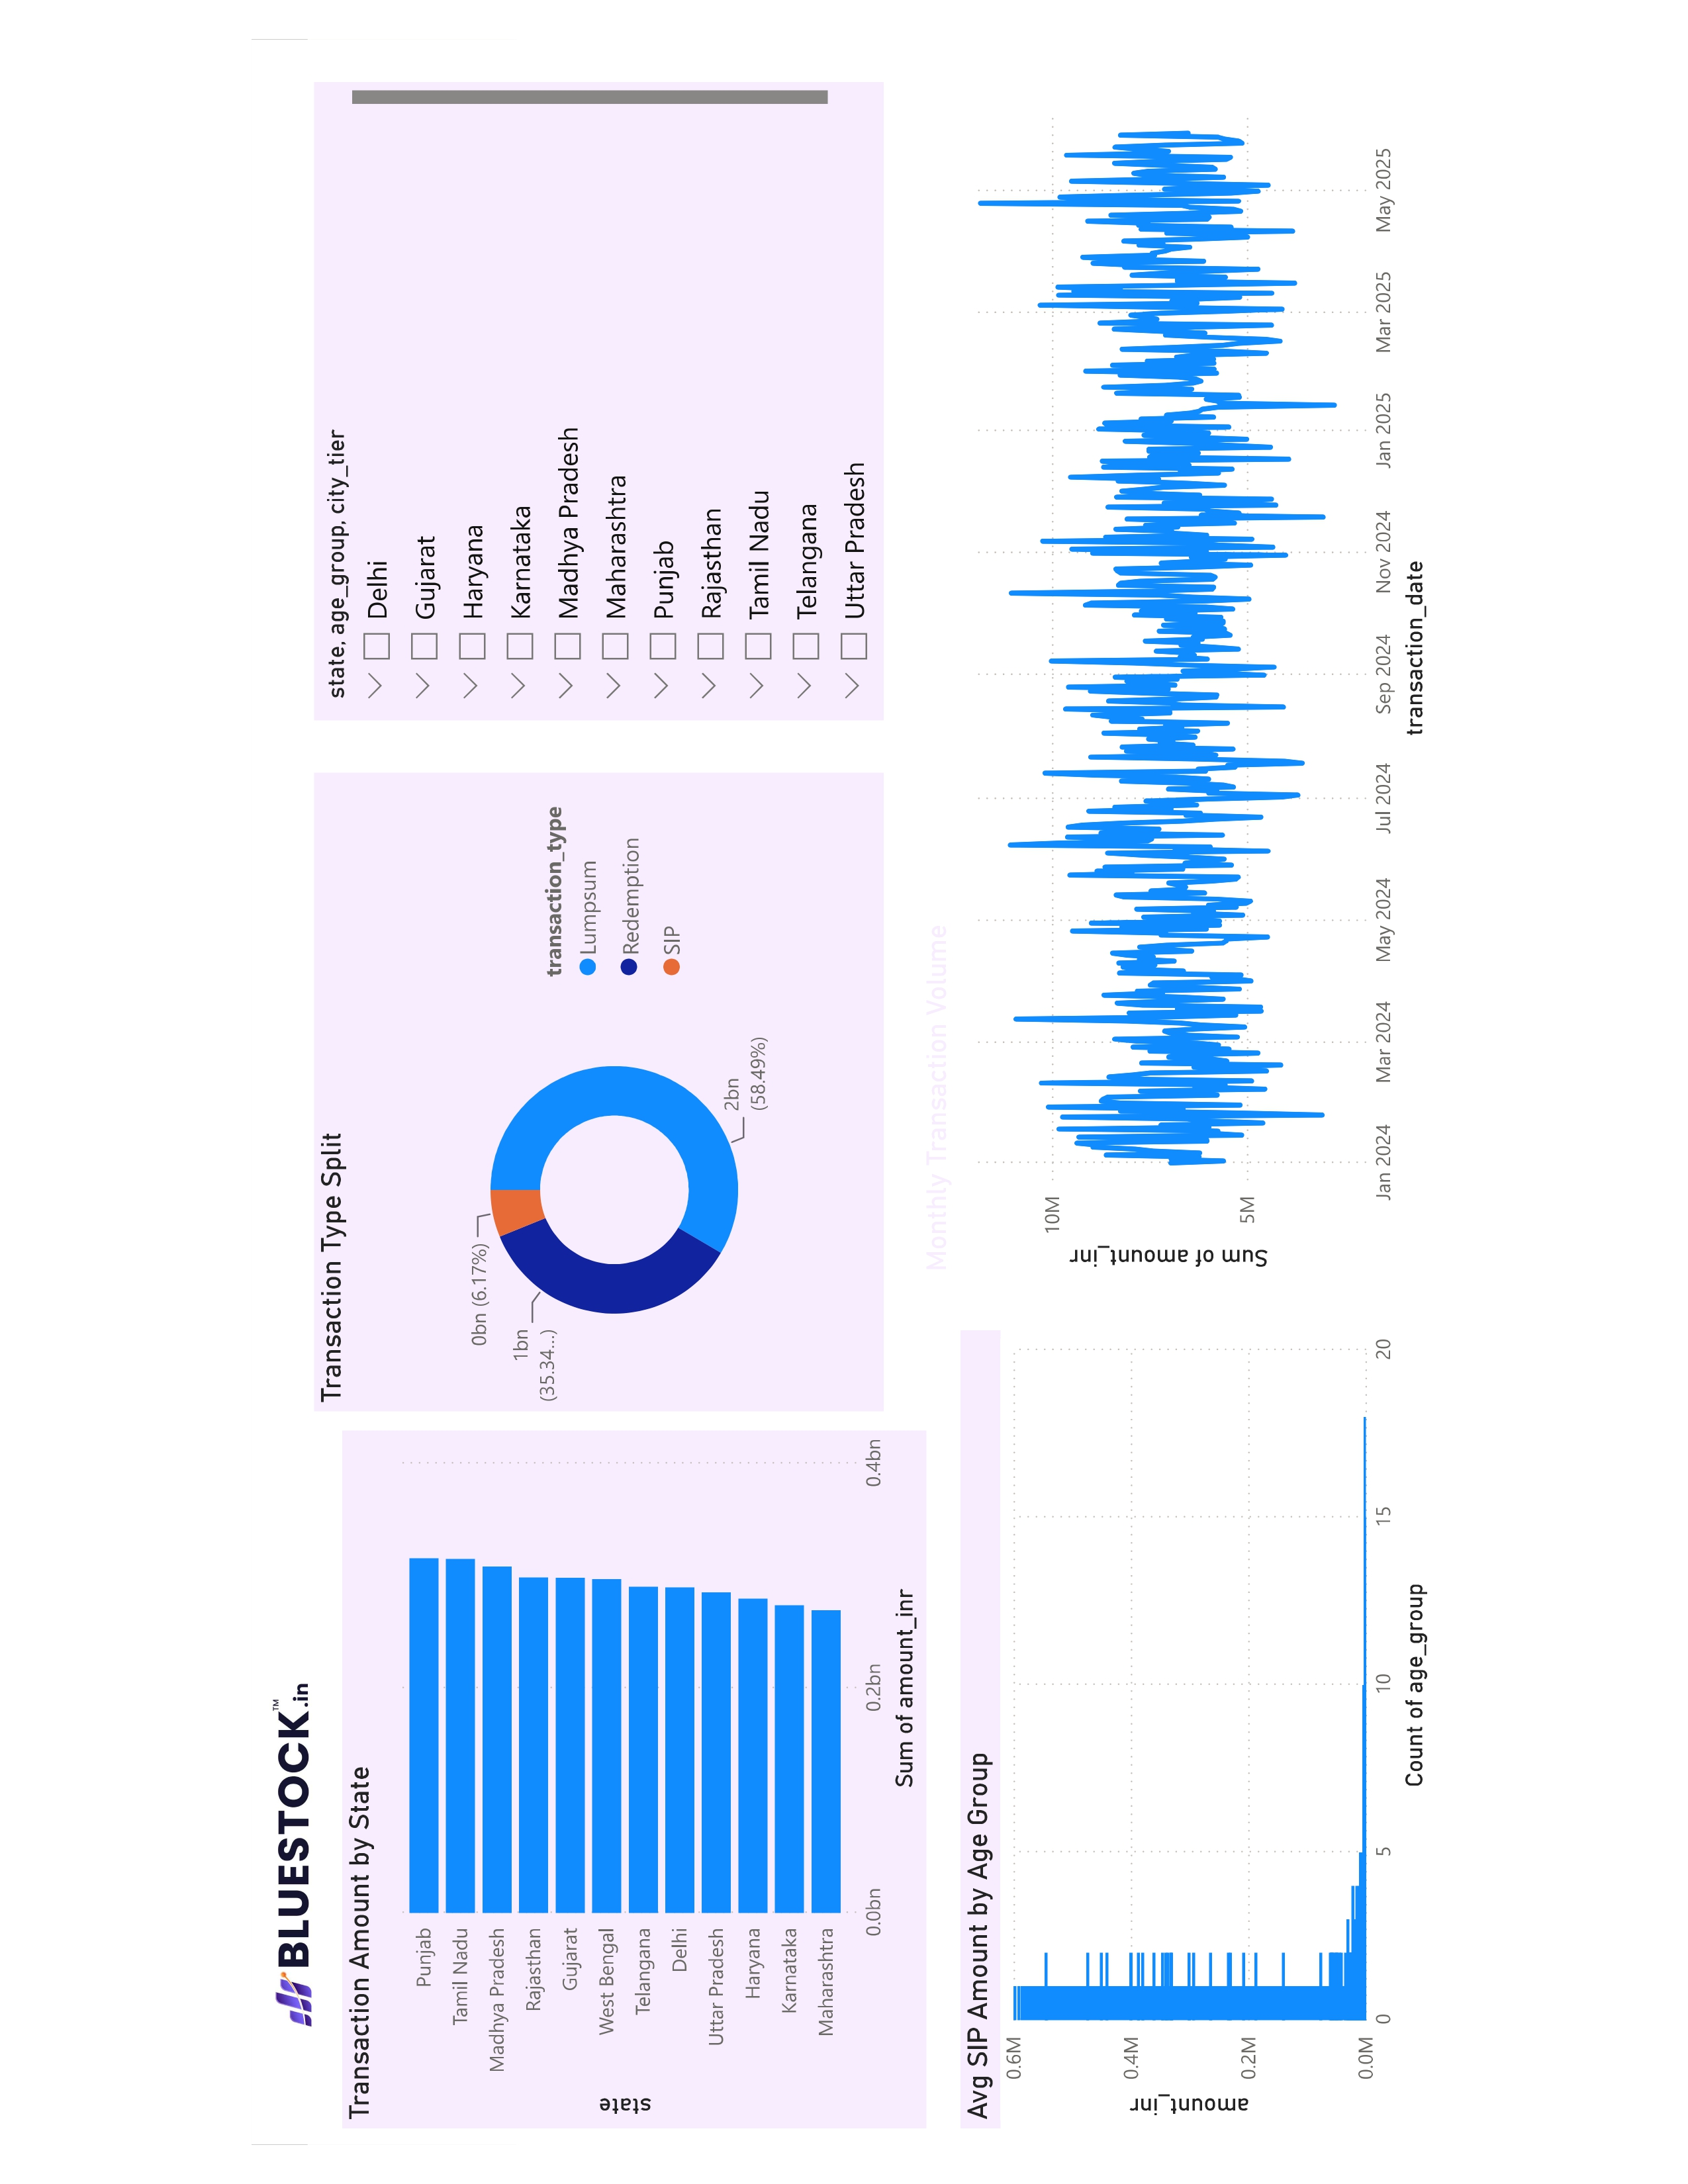

What the dashboard file says about the page in this screenshot:
{"tool":"powerbi","page":{"name":"Investor Analytics","canvas":[1280,720],"ordinal":2},"visuals":[{"type":"clusteredBarChart","title":"Transaction Amount by State","fields":{"Category":["clean_investor_transactions.state"],"Y":["Sum(clean_investor_transactions.amount_inr)"]},"box":[9.6,54.9,424,355.4],"z":0},{"type":"donutChart","title":"Transaction Type Split","fields":{"Category":["clean_investor_transactions.transaction_type"],"Y":["Sum(clean_investor_transactions.amount_inr)"]},"box":[446,38.4,388.3,345.8],"z":1000},{"type":"clusteredBarChart","title":"Avg SIP Amount by Age Group","fields":{"Y":["CountNonNull(clean_investor_transactions.age_group)"],"Category":["clean_investor_transactions.amount_inr"]},"box":[9.6,430.9,485.8,289.5],"z":2000},{"type":"lineChart","title":"Monthly Transaction Volume","fields":{"Category":["clean_investor_transactions.transaction_date"],"Y":["Sum(clean_investor_transactions.amount_inr)"]},"box":[525.6,406.2,728.6,314.2],"z":3000},{"type":"slicer","fields":{"Values":["clean_investor_transactions.state","clean_investor_transactions.age_group","clean_investor_transactions.city_tier"]},"box":[865.9,38.4,388.3,345.8],"z":4000},{"type":"image","box":[0,11,352.7,27.4],"z":5000}]}

Visuals, with their boxes on the page's 1280x720 design canvas (x1, y1, x2, y2). These are canvas units, not pixel positions in the 1688x2184 screenshot, which may show the page scaled, cropped or inside an application window:
"Transaction Amount by State" clusteredBarChart: 10 55 434 410
"Transaction Type Split" donutChart: 446 38 834 384
"Avg SIP Amount by Age Group" clusteredBarChart: 10 431 495 720
"Monthly Transaction Volume" lineChart: 526 406 1254 720
slicer - clean_investor_transactions.state x clean_investor_transactions.age_group: 866 38 1254 384
image: 0 11 353 38
